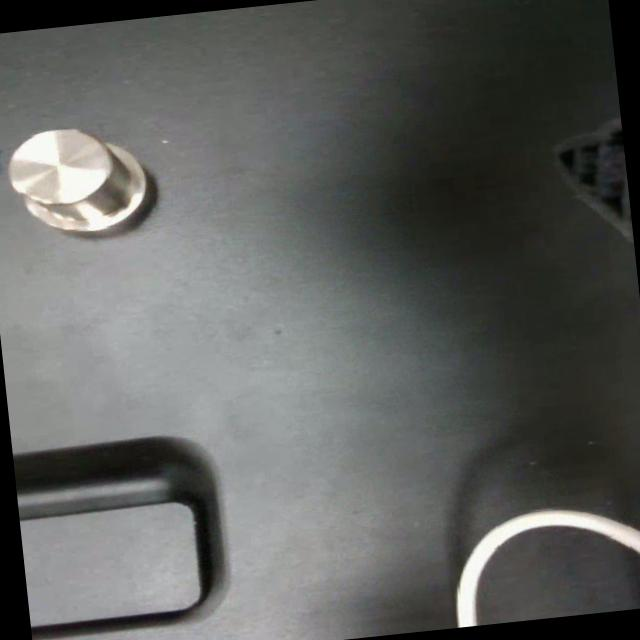sensor: (2, 118, 154, 240)
